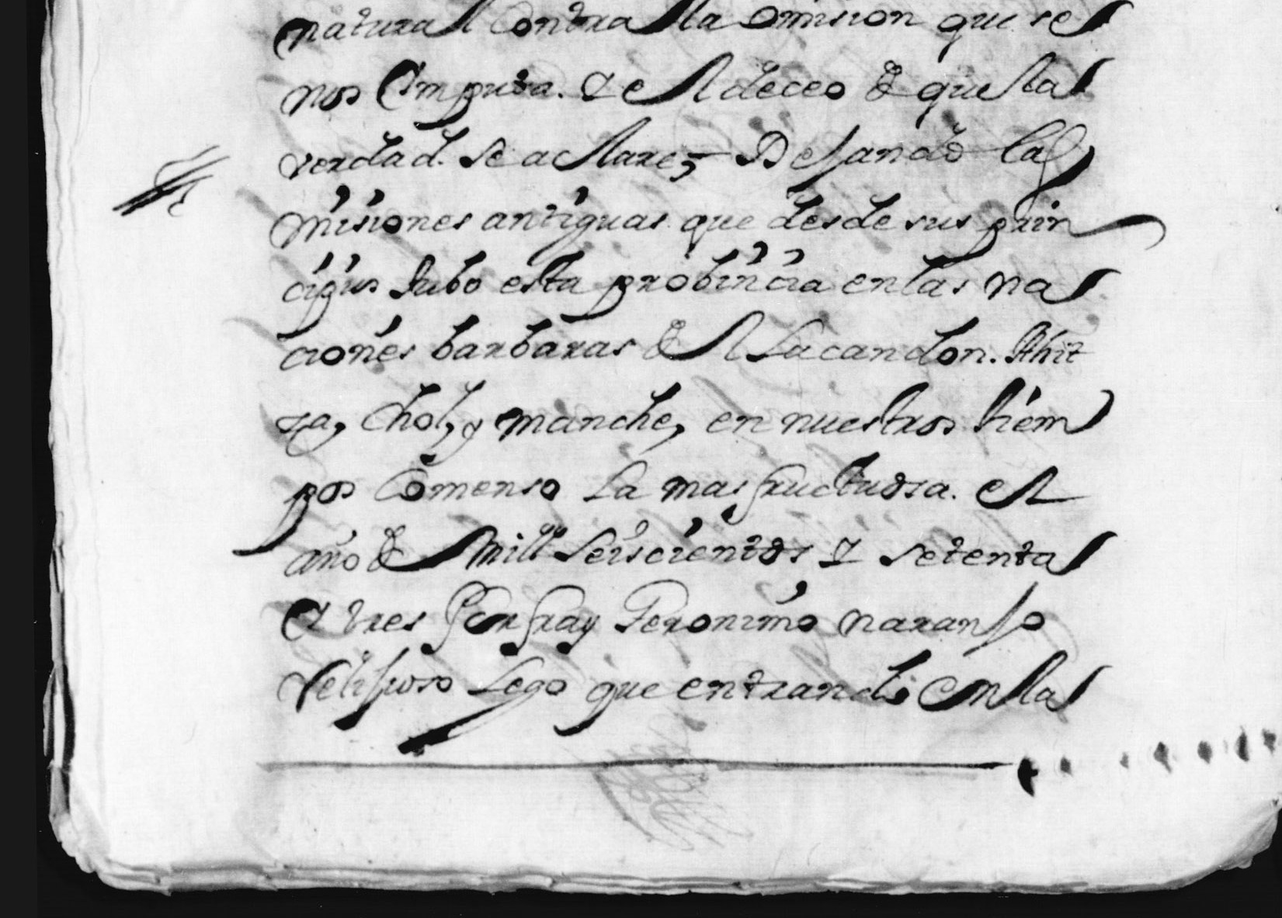lacandon: (745, 316, 986, 365)
